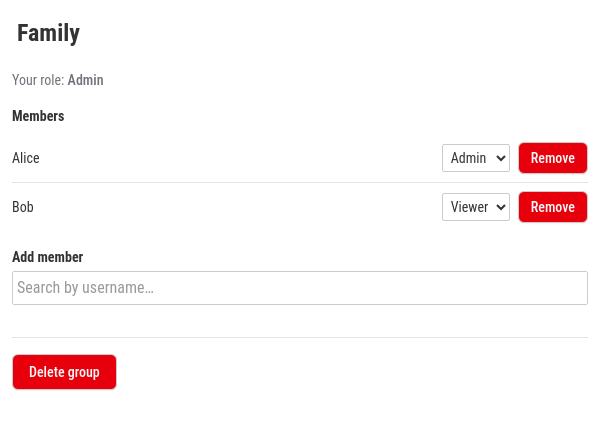
Test: GroupDetailPage – add member › shows no results message when query returns empty
In the field named "Search users to add": {"x": 300, "y": 288} [12,271,588,305], type "zzz"
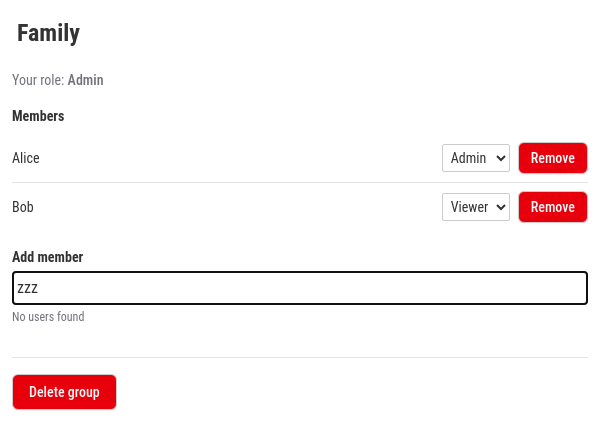
Check: the text "No users found" is shown, box [12,310,84,324]
